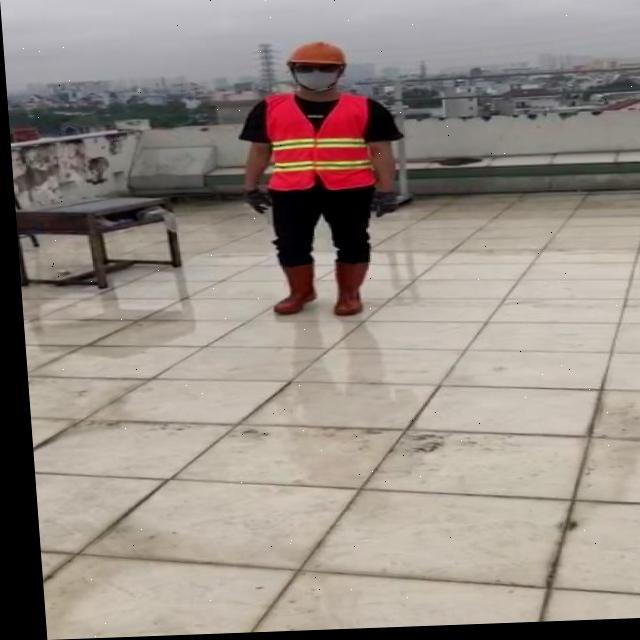Gloves: (366, 192, 397, 220), (240, 189, 269, 216)
Helmet: (285, 43, 348, 95)
Safety-Boot: (267, 260, 314, 316), (326, 259, 368, 317)
Safety-Vest: (261, 91, 376, 195)
